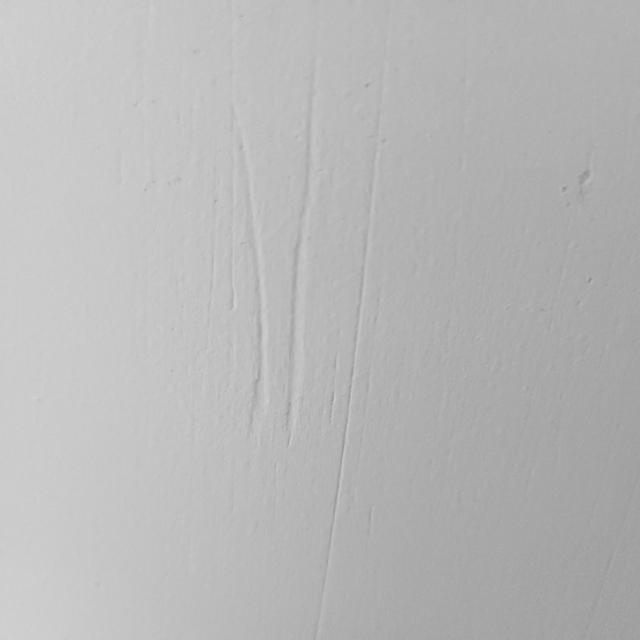rough and patchy surface: (170, 98, 462, 458), (187, 474, 447, 627), (168, 5, 408, 90), (482, 226, 632, 340), (508, 146, 633, 210), (95, 140, 138, 192)
